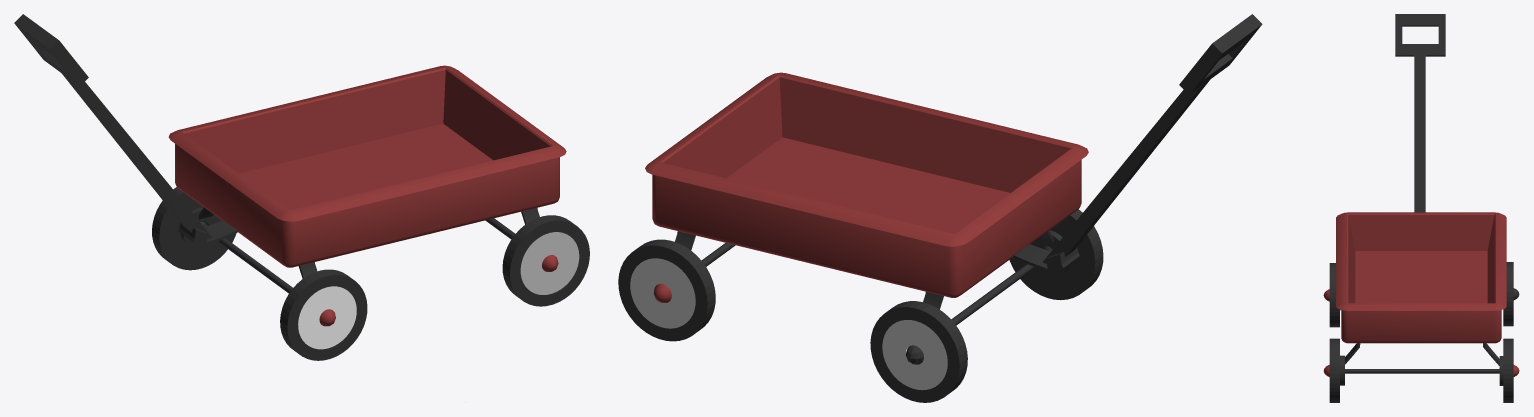
Rendered from 136bU5GesHs.glb.
3 renders of one model, left to right at view 1: azimuth 30°, elevation 25°; view 2: azimuth 150°, elevation 25°; view 3: azimuth 270°, elevation 25°, orthographic. The views are drawn at different scales.
Visible parts, largest first — view 1: Tube002; view 2: Tube002; view 3: Tube002.
Boxes of the visible parts, x1=… form: Tube002: x1=14, y1=14, x2=589, y2=360; Tube002: x1=618, y1=14, x2=1262, y2=402; Tube002: x1=1323, y1=14, x2=1519, y2=402.
Bounding box in the file's own units: 1.33 × 1 × 0.7649.
